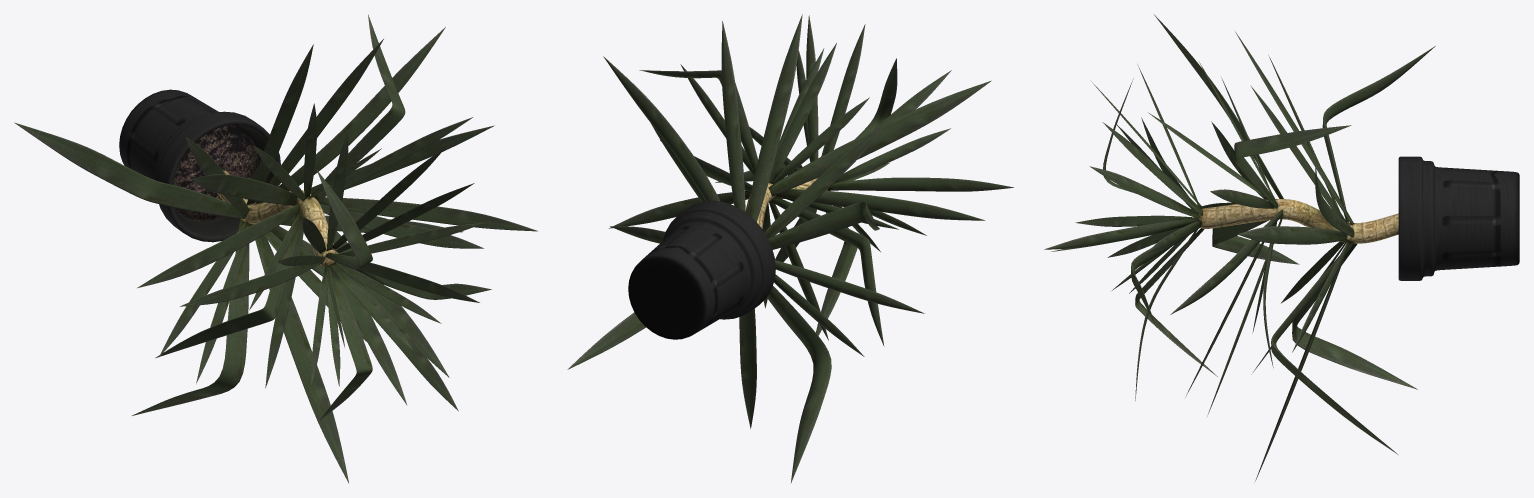
Rendered from 10461_Yucca_Plant_v1_max2010_it2.obj.
3 renders of one model, left to right at view 1: azimuth 30°, elevation 25°; view 2: azimuth 150°, elevation 25°; view 3: azimuth 270°, elevation 25°, orthographic. The views are drawn at different scales.
Visible parts, largest first — view 1: 10461_Yucca_Plant_v1; view 2: 10461_Yucca_Plant_v1; view 3: 10461_Yucca_Plant_v1.
Boxes of the visible parts, x1,y1,x2,y2 form: 10461_Yucca_Plant_v1: (14, 14, 537, 482); 10461_Yucca_Plant_v1: (567, 14, 1013, 482); 10461_Yucca_Plant_v1: (1044, 14, 1519, 481).
Bounding box in the file's own units: 138 × 157 × 157.
1 material, 1 textured.
